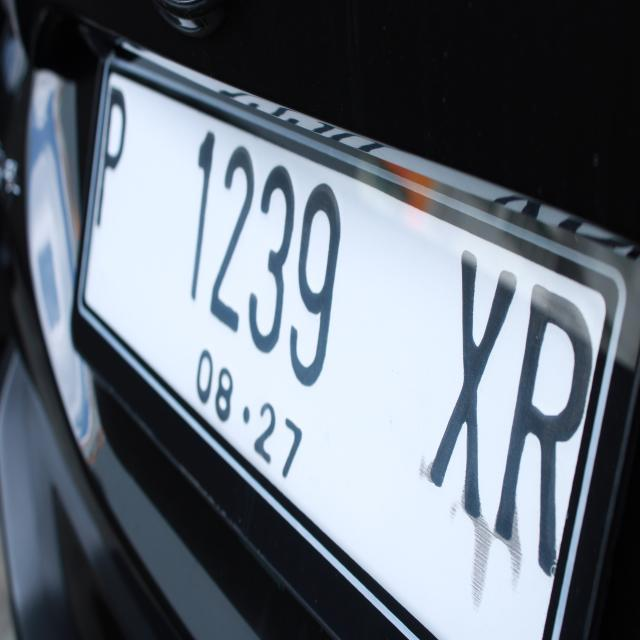1: (179, 97, 221, 326)
2: (213, 130, 254, 348)
3: (248, 142, 298, 380)
9: (292, 155, 346, 404)
P: (97, 80, 137, 256)
R: (504, 274, 596, 580)
X: (434, 224, 524, 542)
